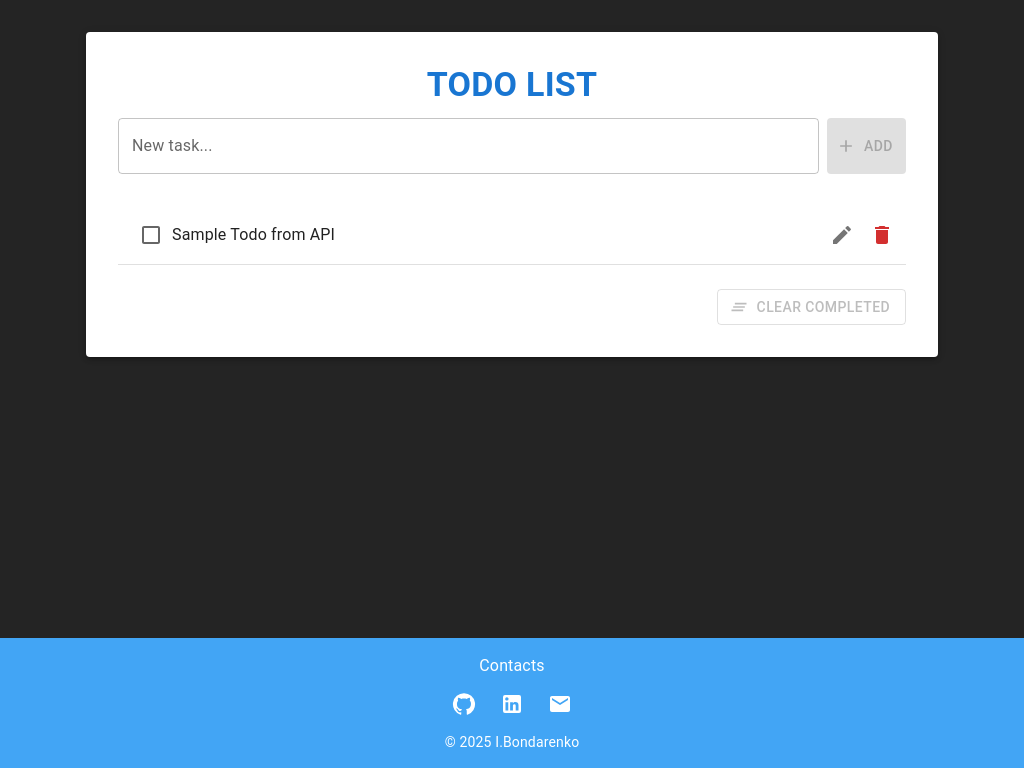
Test: Редагування завдання зберігає зміни
Click the button named "edit".
click(842, 235)  # box [822,215,862,255]
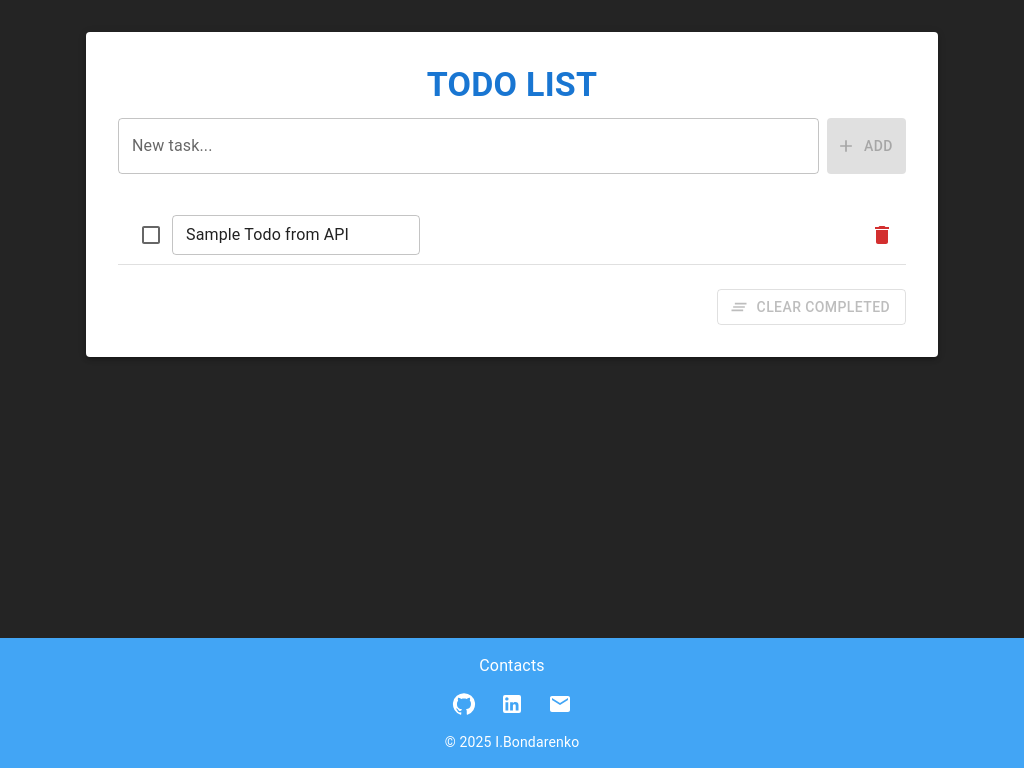
Replace the text in the field showing "Sample Todo from API" with "Updated Sample Todo Text" at (296, 235), box [172,215,420,255]
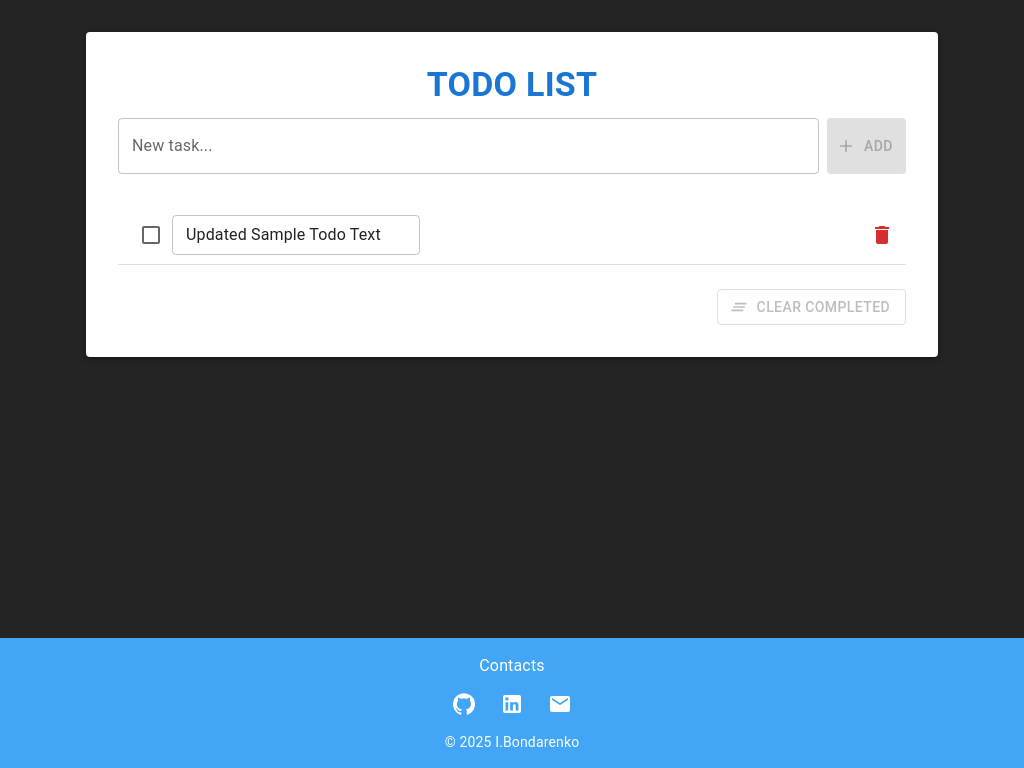
Press Enter in the field showing "Sample Todo from API", box [172,215,420,255]
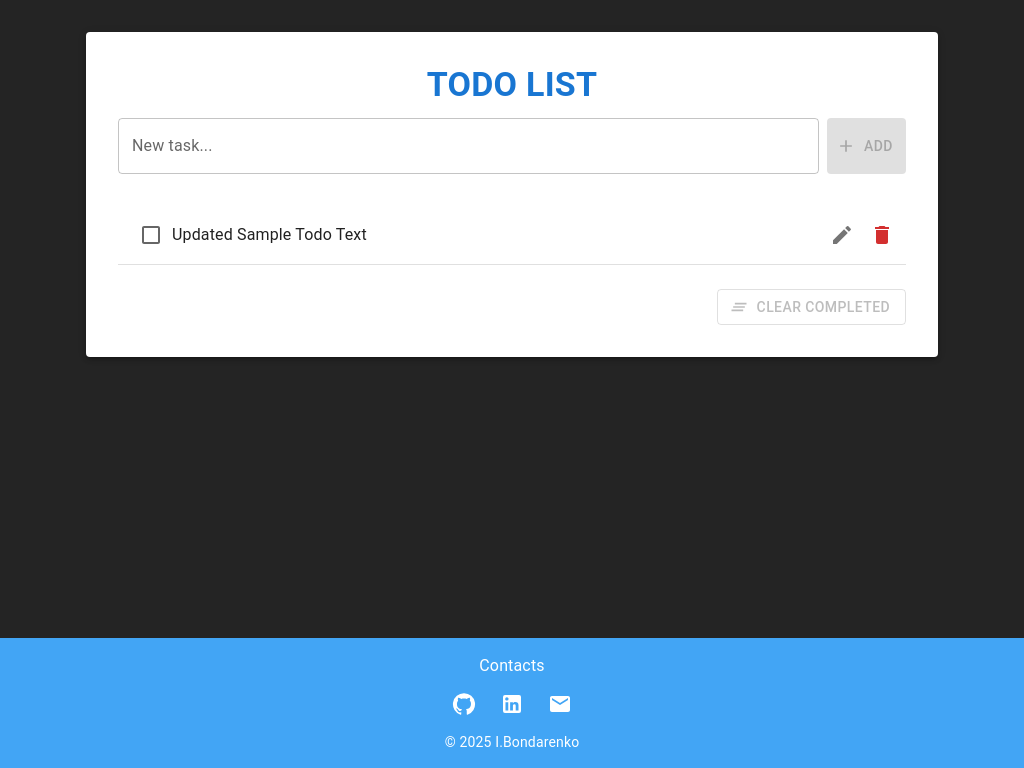
Expected: the text "Sample Todo from API" is not shown
Now the text "Updated Sample Todo Text" is shown, box [172,223,367,247]
